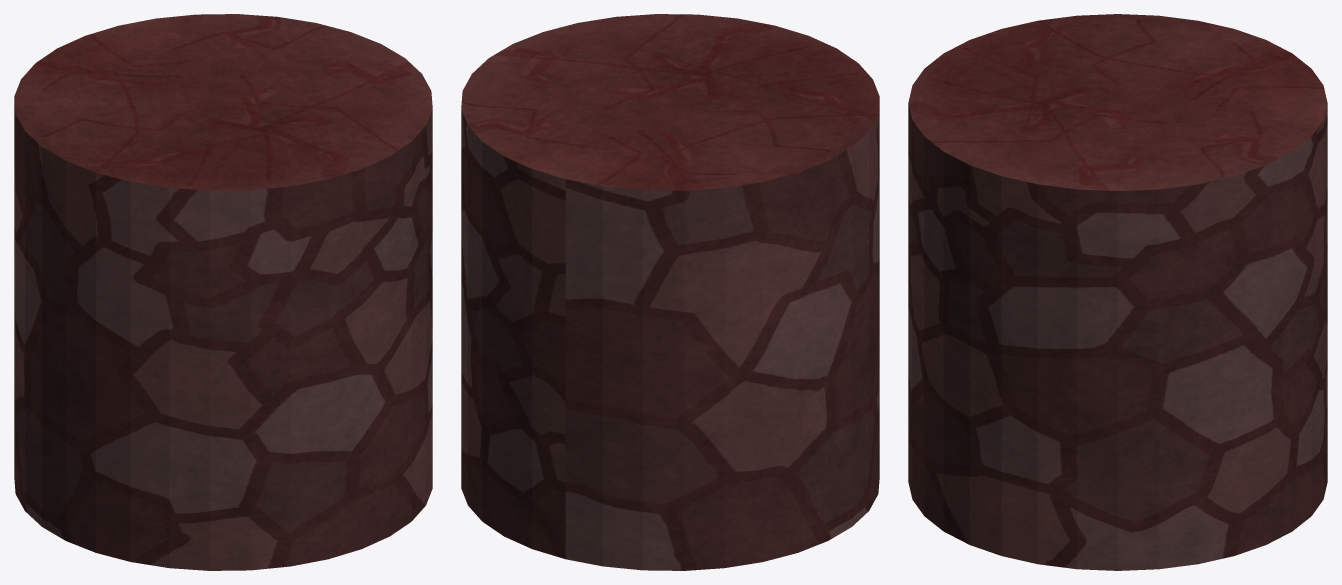
The model's file is stage.obj.
3 views of the same model, side by side, from view 1: azimuth 30°, elevation 25°; view 2: azimuth 150°, elevation 25°; view 3: azimuth 270°, elevation 25° (orthographic).
Visible parts, largest first — view 1: 円柱; view 2: 円柱; view 3: 円柱.
Part boxes in pixels (x1,y1,x2,y2): 円柱: [14, 14, 432, 570]; 円柱: [461, 14, 879, 570]; 円柱: [908, 14, 1327, 570].
Size of the model in its own units: 10 by 10 by 10.
Materials: 1 (1 with a texture image).
